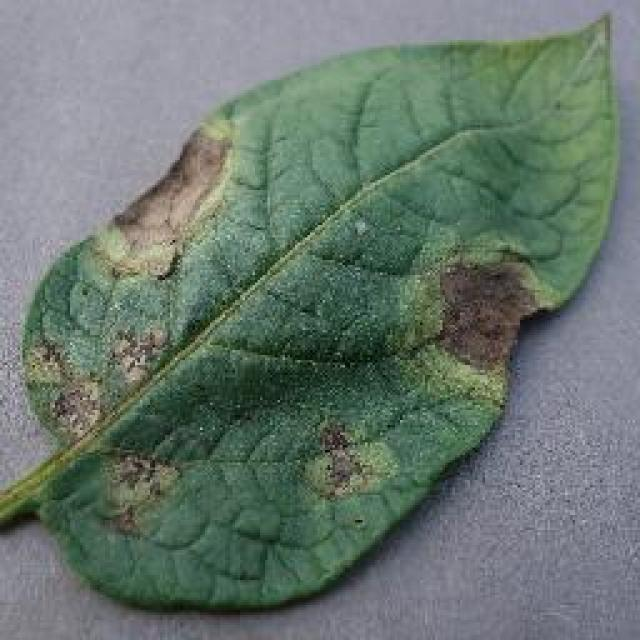late_blight: (0, 10, 625, 618)
